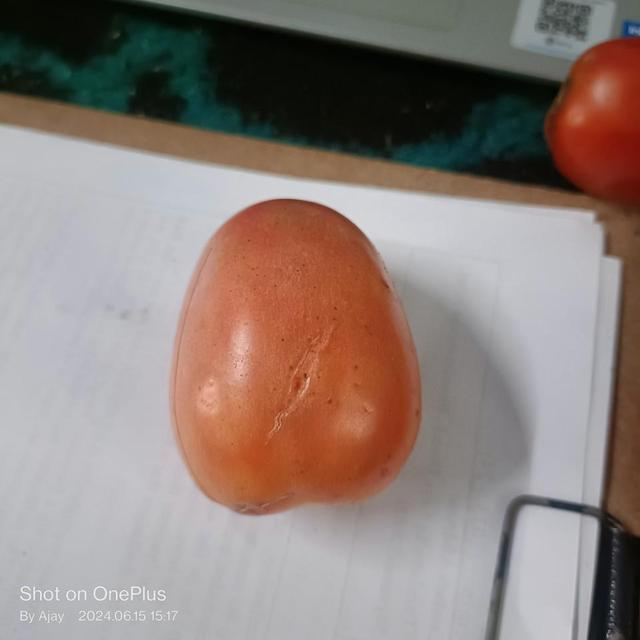Cracking Fruit: (131, 69, 299, 367)
